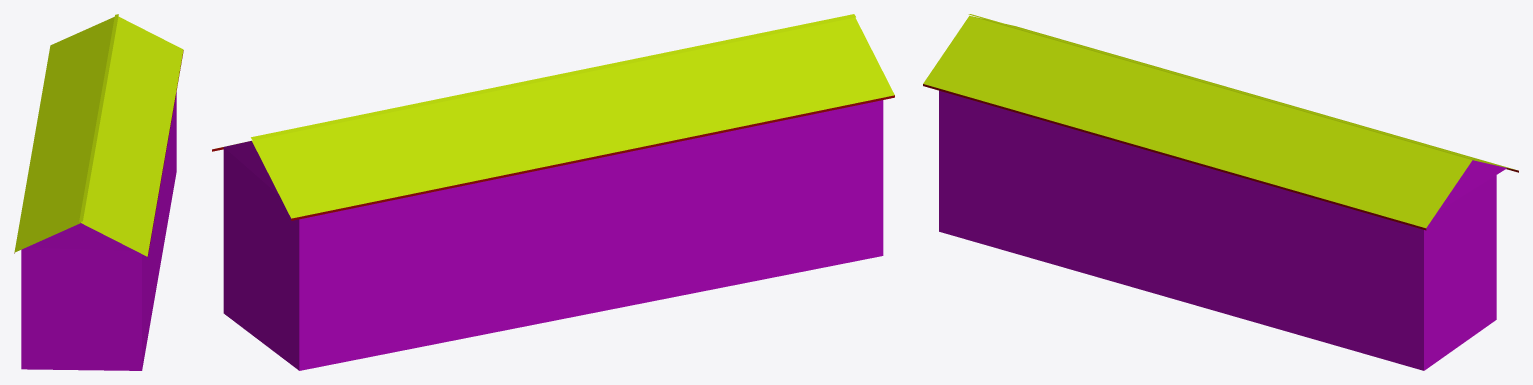
The model's file is dol_47.glb.
3 views of the same model, side by side, from view 1: azimuth 30°, elevation 25°; view 2: azimuth 150°, elevation 25°; view 3: azimuth 270°, elevation 25° (orthographic). The views are drawn at different scales.
Visible parts, largest first — view 1: dol_47; view 2: dol_47; view 3: dol_47.
Part boxes in pixels (x1,y1,x2,y2): dol_47: (14,14,183,370); dol_47: (212,14,894,370); dol_47: (923,14,1518,370).
Size of the model in its own units: 24.37 by 10.6 by 30.35.
